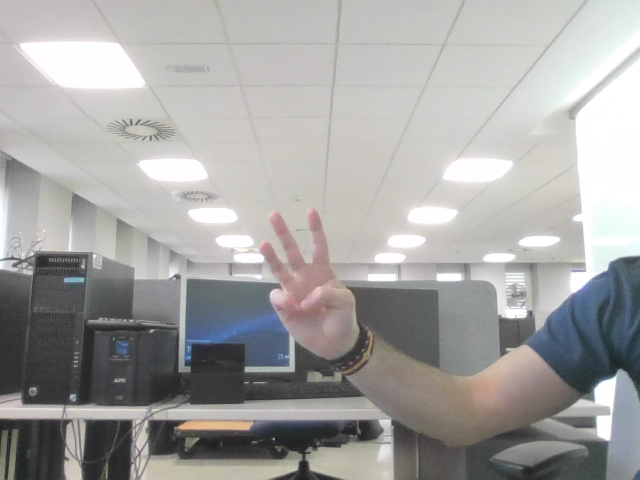3Dedos: (269, 219, 343, 316)
